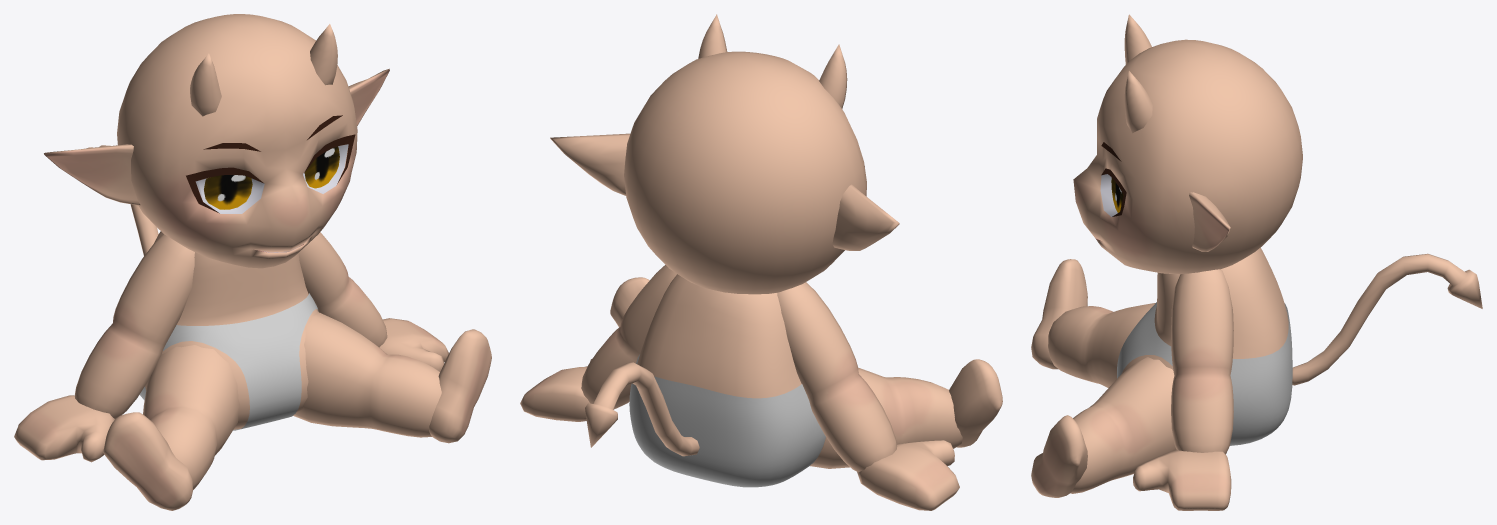
File: Idle.fbx
3 renders of one model, left to right at view 1: azimuth 30°, elevation 25°; view 2: azimuth 150°, elevation 25°; view 3: azimuth 270°, elevation 25°, orthographic. The views are drawn at different scales.
Visible parts, largest first — view 1: Baby; view 2: Baby; view 3: Baby.
Boxes of the visible parts, bbox=[...] form: Baby: bbox=[14, 14, 491, 510]; Baby: bbox=[520, 14, 1002, 510]; Baby: bbox=[1031, 14, 1482, 510].
Bounding box in the file's own units: 384 × 387 × 365.
